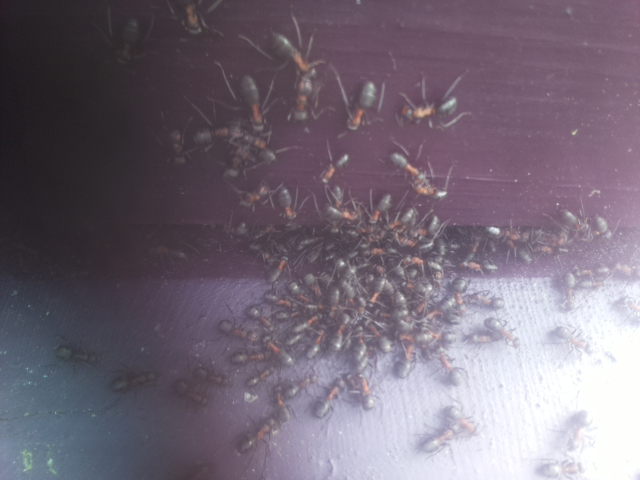ant: (229, 394, 297, 464), (265, 32, 325, 110), (418, 397, 485, 459), (389, 143, 451, 207), (338, 68, 387, 144), (164, 363, 223, 419), (235, 70, 277, 140), (392, 86, 458, 130), (422, 335, 472, 392), (307, 367, 353, 428), (482, 217, 537, 268), (193, 121, 263, 158), (554, 203, 607, 246), (545, 319, 599, 361), (209, 313, 267, 349), (345, 363, 382, 419), (257, 330, 302, 372), (281, 271, 327, 311), (47, 339, 106, 370), (319, 190, 366, 228), (235, 179, 292, 210), (102, 369, 163, 396), (114, 15, 146, 66), (318, 148, 355, 191), (362, 318, 398, 357), (482, 312, 520, 348), (279, 370, 321, 402), (394, 332, 418, 383), (367, 189, 397, 229), (448, 271, 470, 323), (556, 269, 581, 314), (167, 121, 190, 168), (180, 0, 206, 36), (276, 183, 294, 220), (230, 352, 271, 367)
